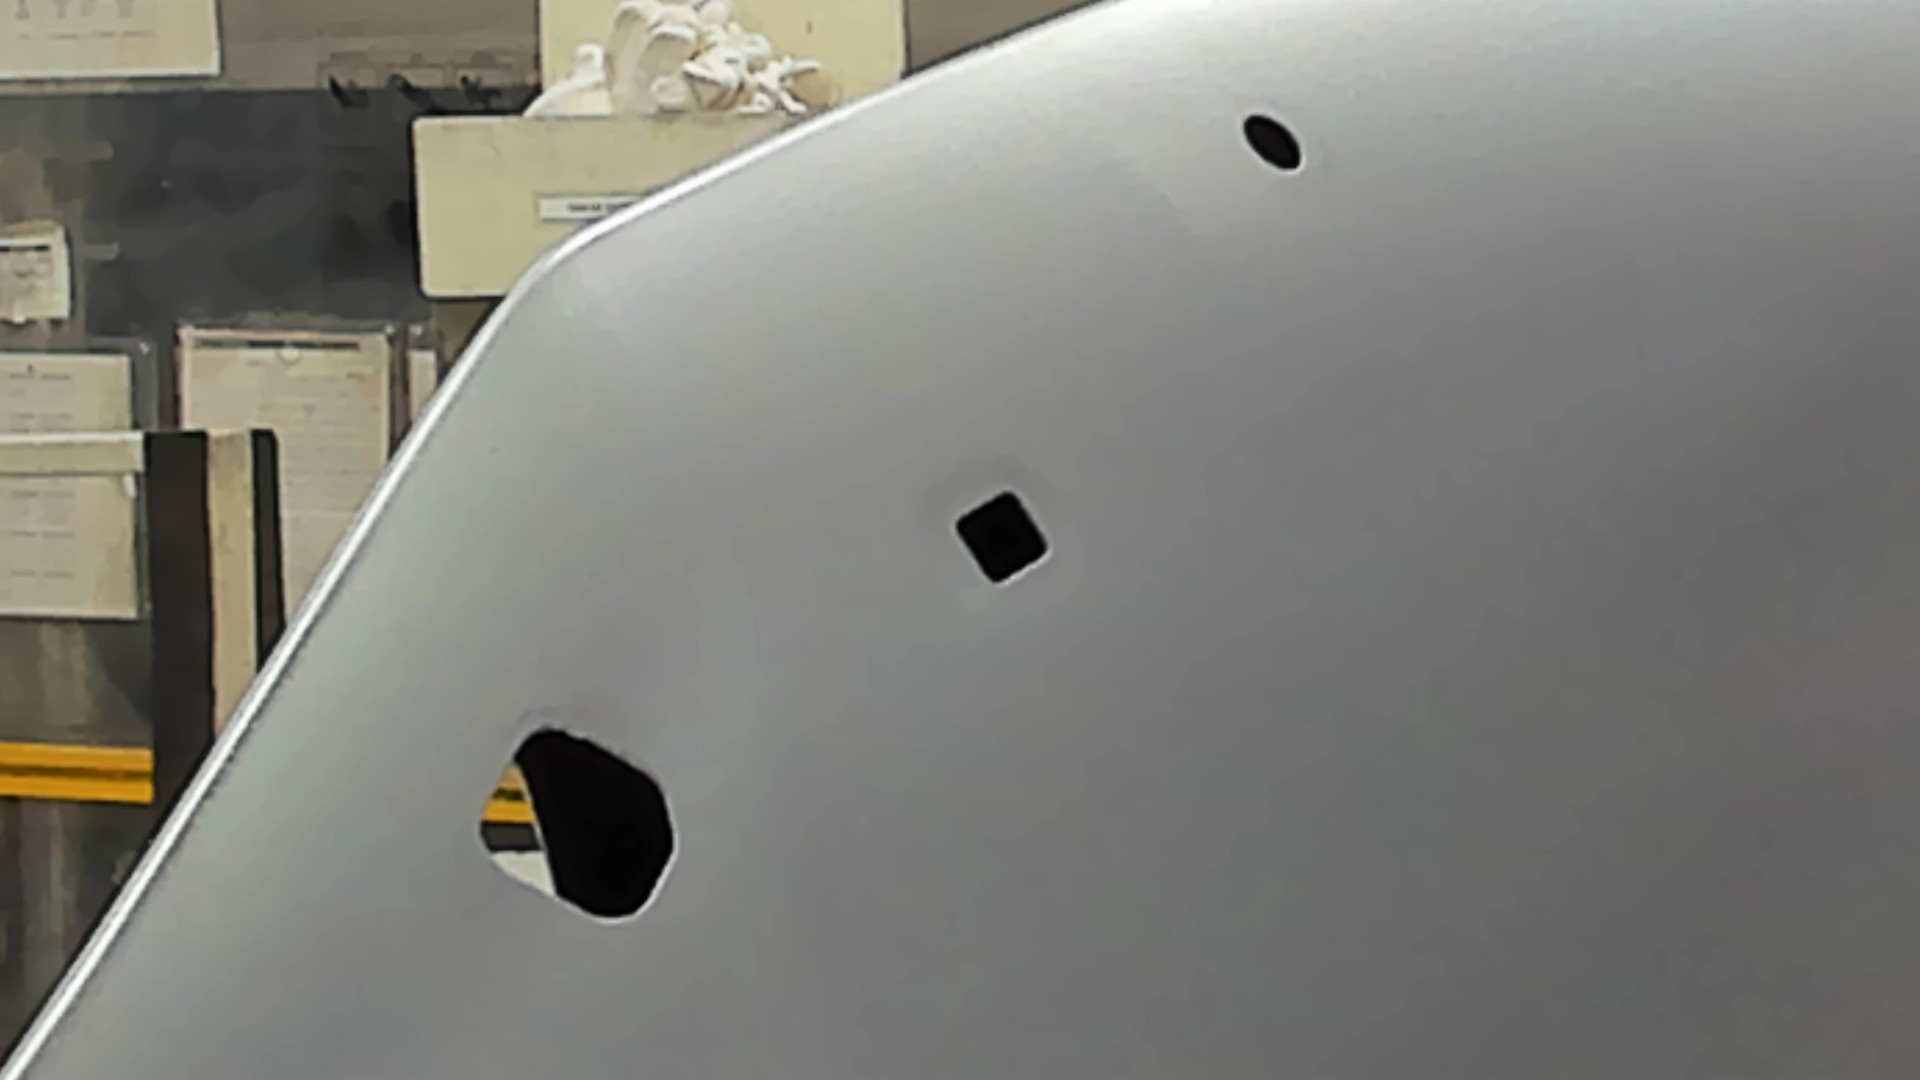capo: (1062, 185, 1920, 1080)
chico: (1236, 111, 1305, 175)
grande: (468, 713, 683, 938)
mediano: (947, 483, 1060, 593)
